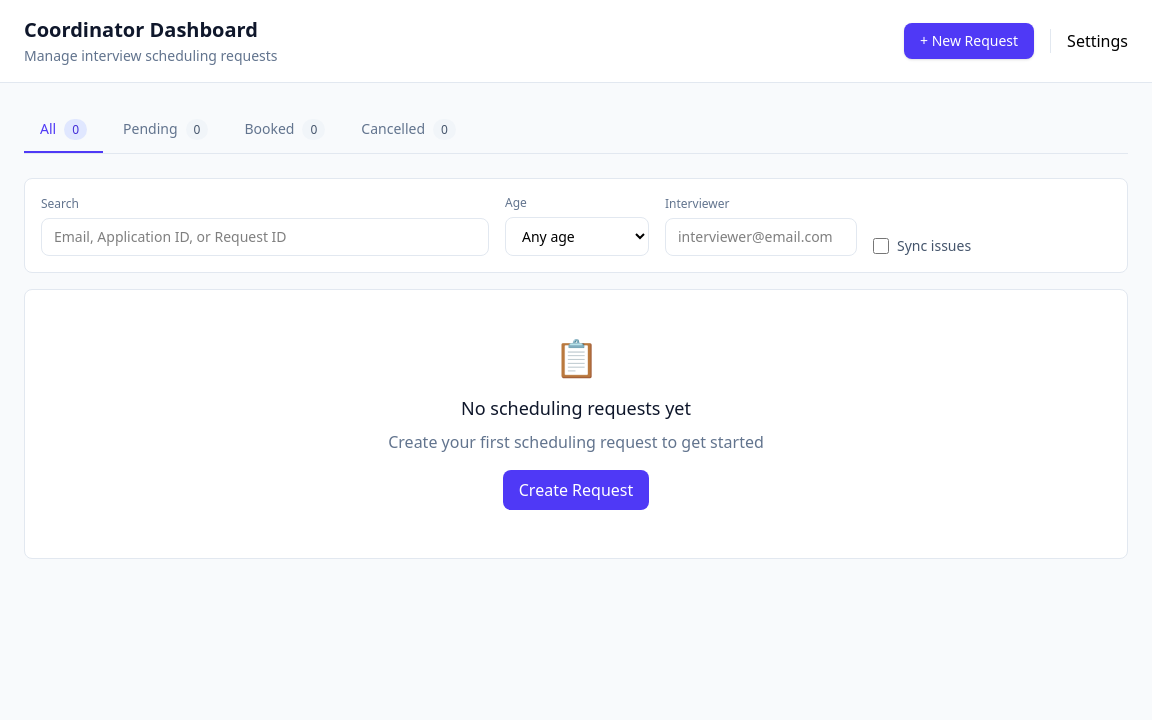
Test case: CoordinatorDashboard › opens create form when button clicked
Check: the heading "No scheduling requests yet" is shown, box [461, 396, 691, 420]
Click the header button
What coordinates should you click on to do the following:
click the button "+ New Request"
I would click on:
 (969, 41)
Its box is [904, 23, 1034, 59].
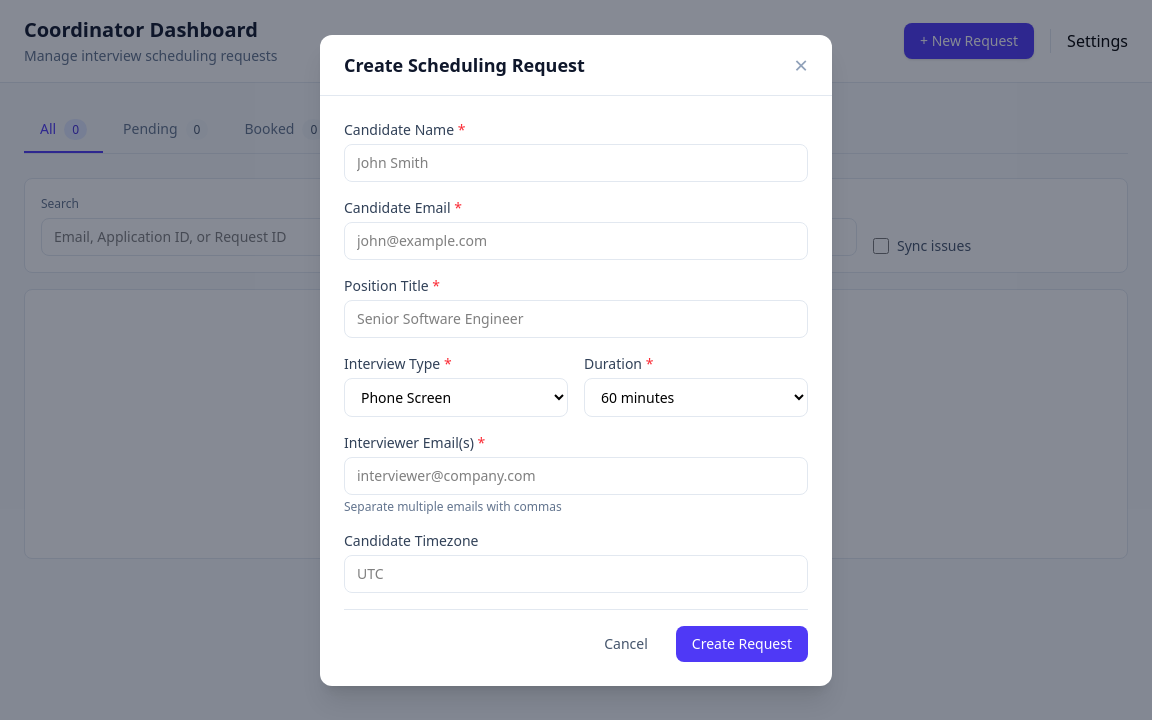
Check: the field with placeholder "John Smith" is shown, box [344, 144, 808, 182]
Check: the field with placeholder "john@example.com" is shown, box [344, 222, 808, 260]
Check: the field with placeholder "Senior Software Engineer" is shown, box [344, 300, 808, 338]
